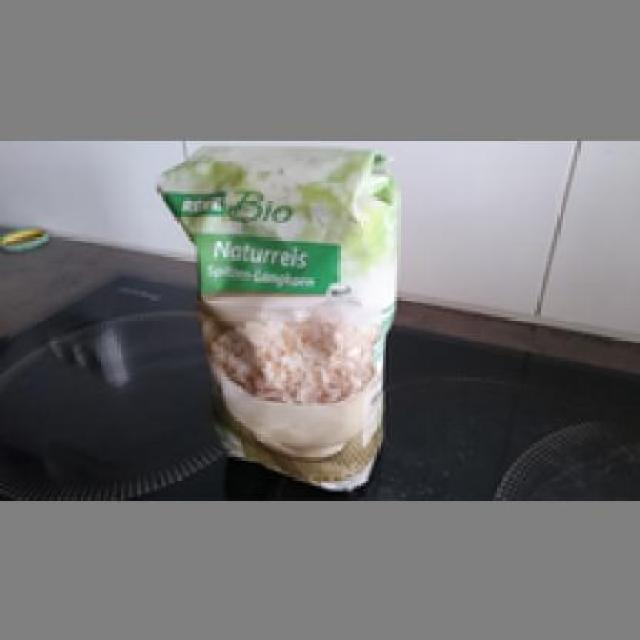Rice: (154, 137, 400, 492)
